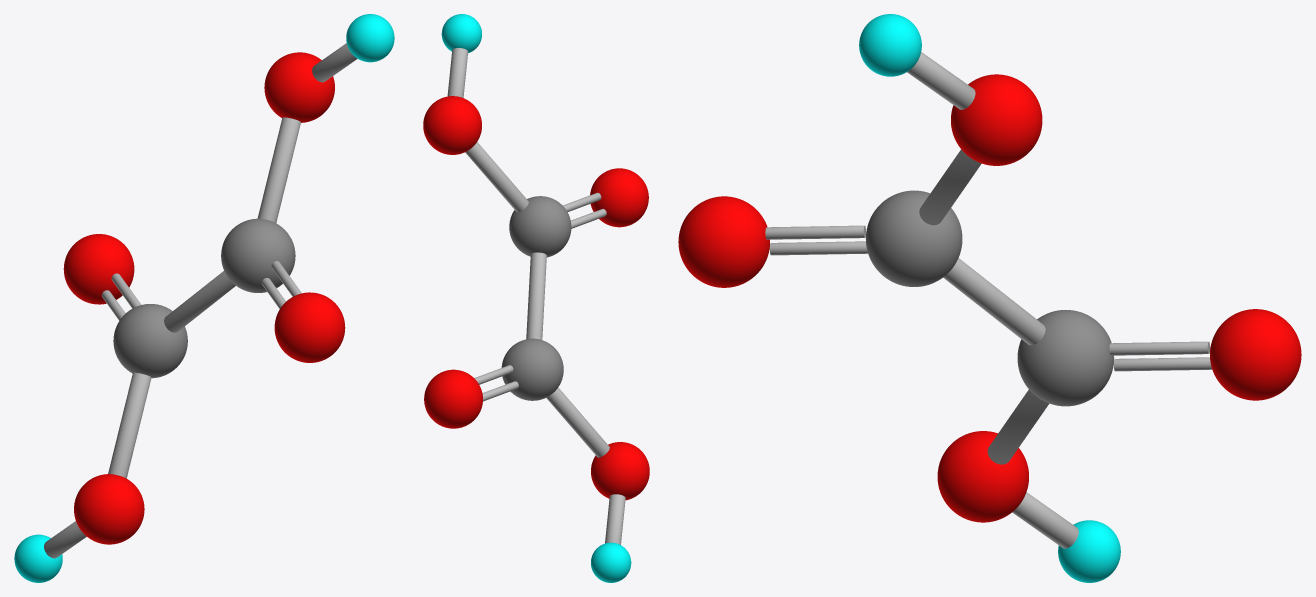
Rendered from oxalic acid.glb.
3 renders of one model, left to right at view 1: azimuth 30°, elevation 25°; view 2: azimuth 150°, elevation 25°; view 3: azimuth 270°, elevation 25°, orthographic. The views are drawn at different scales.
Visible parts, largest first — view 1: CMAtom_1, CMAtom_0, CMAtom_2, CMAtom_3, CMAtom_4, CMAtom_6, CMBond_4_Segment_0, CMBond_3_Segment_0, CMAtom_7, CMAtom_5, CMBond_9_Segment_0, CMBond_8_Segment_0 (+1 smaller); view 2: CMAtom_1, CMAtom_0, CMAtom_4, CMAtom_6, CMAtom_2, CMAtom_3, CMBond_9_Segment_0, CMBond_3_Segment_0, CMBond_4_Segment_0, CMAtom_5, CMAtom_7, CMBond_7_Segment_0 (+5 smaller); view 3: CMAtom_0, CMAtom_1, CMAtom_4, CMAtom_2, CMAtom_6, CMAtom_3, CMAtom_7, CMBond_9_Segment_0, CMAtom_5, CMBond_4_Segment_0, CMBond_3_Segment_0, CMBond_8_Segment_0 (+5 smaller).
Boxes of the visible parts, box(x1,y1,x2,y2) form: CMAtom_1: box(221, 218, 295, 292); CMAtom_0: box(113, 304, 187, 378); CMAtom_2: box(274, 292, 345, 362); CMAtom_3: box(74, 474, 144, 544); CMAtom_4: box(63, 234, 134, 304); CMAtom_6: box(264, 52, 334, 122); CMBond_4_Segment_0: box(257, 117, 300, 222); CMBond_3_Segment_0: box(108, 372, 151, 478); CMAtom_7: box(346, 14, 394, 62); CMAtom_5: box(14, 534, 62, 582); CMBond_9_Segment_0: box(164, 271, 235, 332); CMBond_8_Segment_0: box(312, 43, 357, 82); CMAtom_1: box(509, 196, 571, 257); CMAtom_0: box(501, 338, 563, 400); CMAtom_4: box(424, 369, 482, 428); CMAtom_6: box(423, 96, 481, 154); CMAtom_2: box(590, 168, 648, 227); CMAtom_3: box(591, 442, 649, 500); CMBond_9_Segment_0: box(526, 252, 546, 339); CMBond_3_Segment_0: box(546, 387, 609, 457); CMBond_4_Segment_0: box(465, 142, 528, 212); CMAtom_5: box(591, 542, 631, 582); CMAtom_7: box(441, 14, 481, 53); CMBond_7_Segment_0: box(605, 494, 625, 544); CMAtom_0: box(1017, 310, 1114, 406); CMAtom_1: box(865, 190, 962, 286); CMAtom_4: box(1210, 309, 1301, 400); CMAtom_2: box(678, 196, 769, 287); CMAtom_6: box(951, 74, 1042, 165); CMAtom_3: box(937, 431, 1028, 522); CMAtom_7: box(859, 14, 921, 76); CMBond_9_Segment_0: box(943, 258, 1045, 345); CMAtom_5: box(1058, 520, 1120, 582); CMBond_4_Segment_0: box(919, 149, 981, 225); CMBond_3_Segment_0: box(987, 389, 1049, 464); CMBond_8_Segment_0: box(907, 52, 975, 109).
Bounding box in the file's own units: 2.84 × 5.1 × 3.97.
